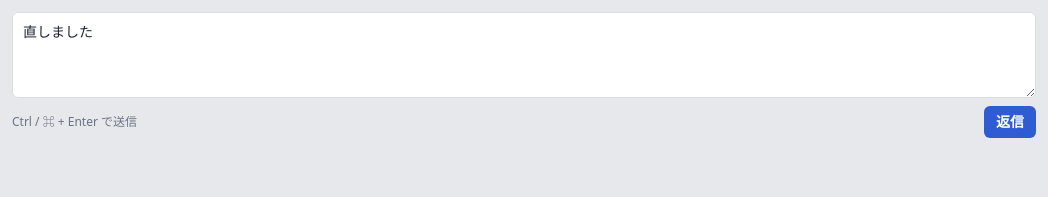
Test: CommentForm › [異常系]送れなかったときは、理由を入力欄の下に残し、「もう一度送る」で同じ文を送り直せる
Click the button "返信" at [1010, 122], box [984, 106, 1036, 138]
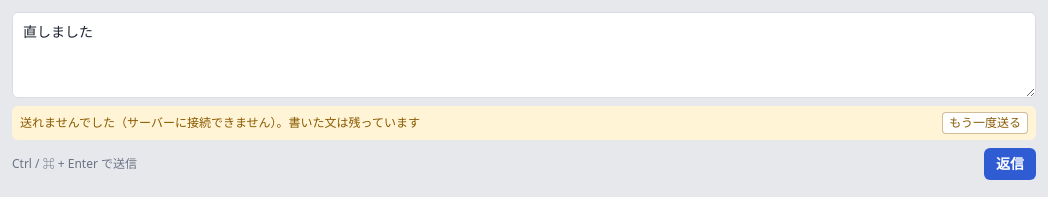
Expected: the text box named "返信を書く" holds "直しました", [12, 12, 1036, 98]
Expected: the message shows "サーバーに接続できません", [127, 114, 270, 131]
Click the button "もう一度送る" at [985, 123], box [942, 112, 1028, 134]
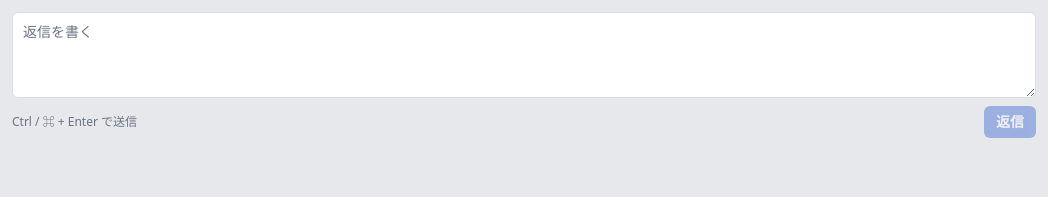
Expected: the message "送れませんでした（サーバーに接続できません）。書いた文は残っています もう一度送る" is gone
